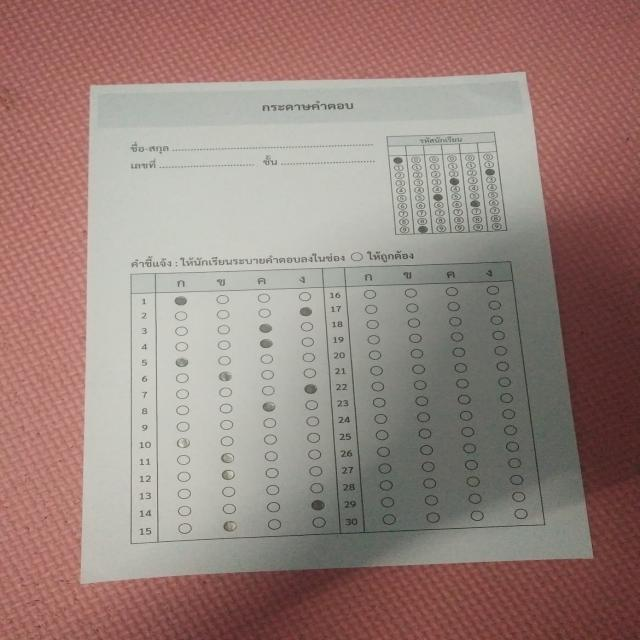Choice: (114, 255, 567, 551)
ID: (379, 128, 522, 239)
